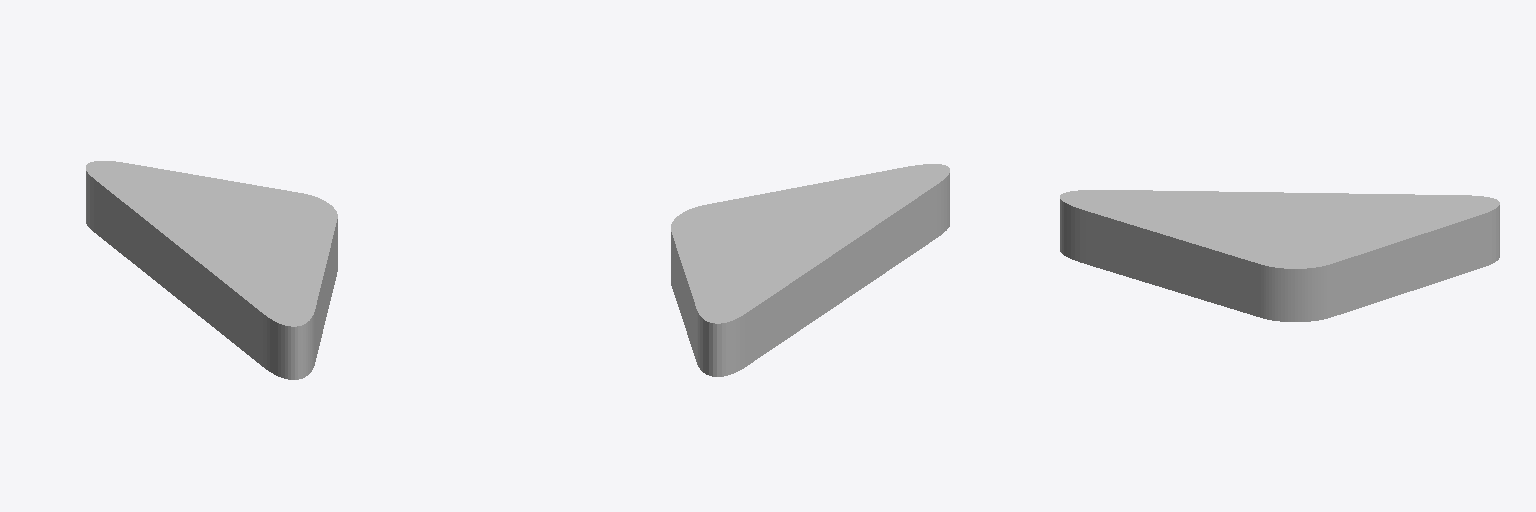
File: Bumper.obj
The picture shows the model from 3 angles: view 1: azimuth 30°, elevation 25°; view 2: azimuth 150°, elevation 25°; view 3: azimuth 270°, elevation 25°; orthographic projection.
Visible parts, largest first — view 1: Cube; view 2: Cube; view 3: Cube.
Part boxes in pixels (x1,y1,x2,y2): Cube: (86,161,337,379); Cube: (671,164,949,376); Cube: (1060,190,1499,321).
Bounding box in the file's own units: 1.01 × 0.3182 × 2.38.